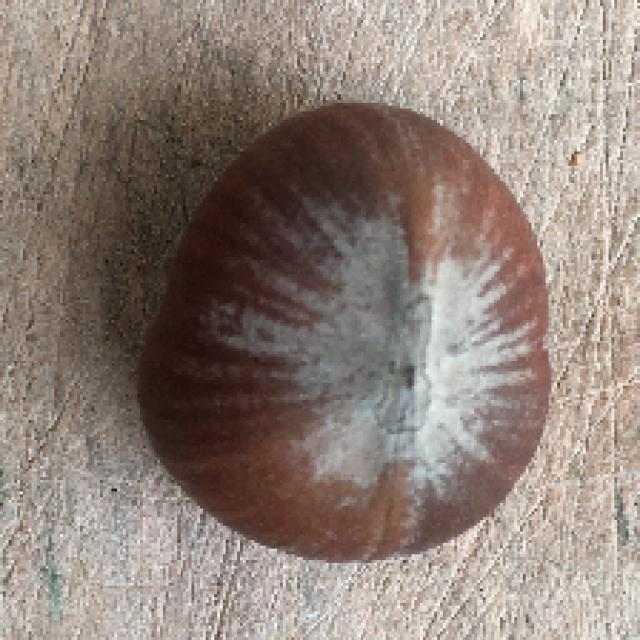qualityHazelnut: (141, 95, 558, 573)
